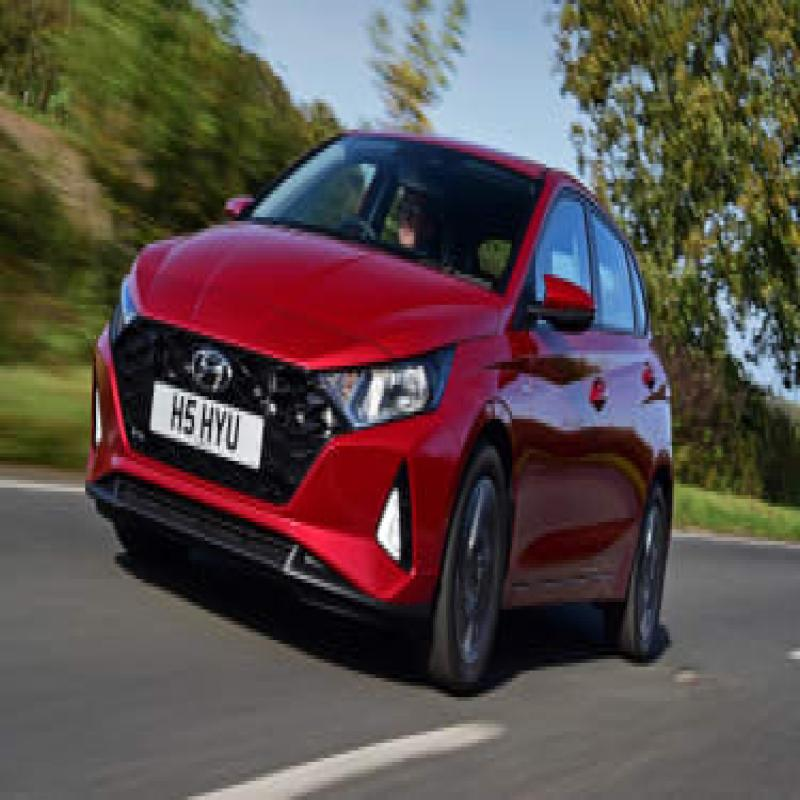car: (83, 93, 693, 678)
